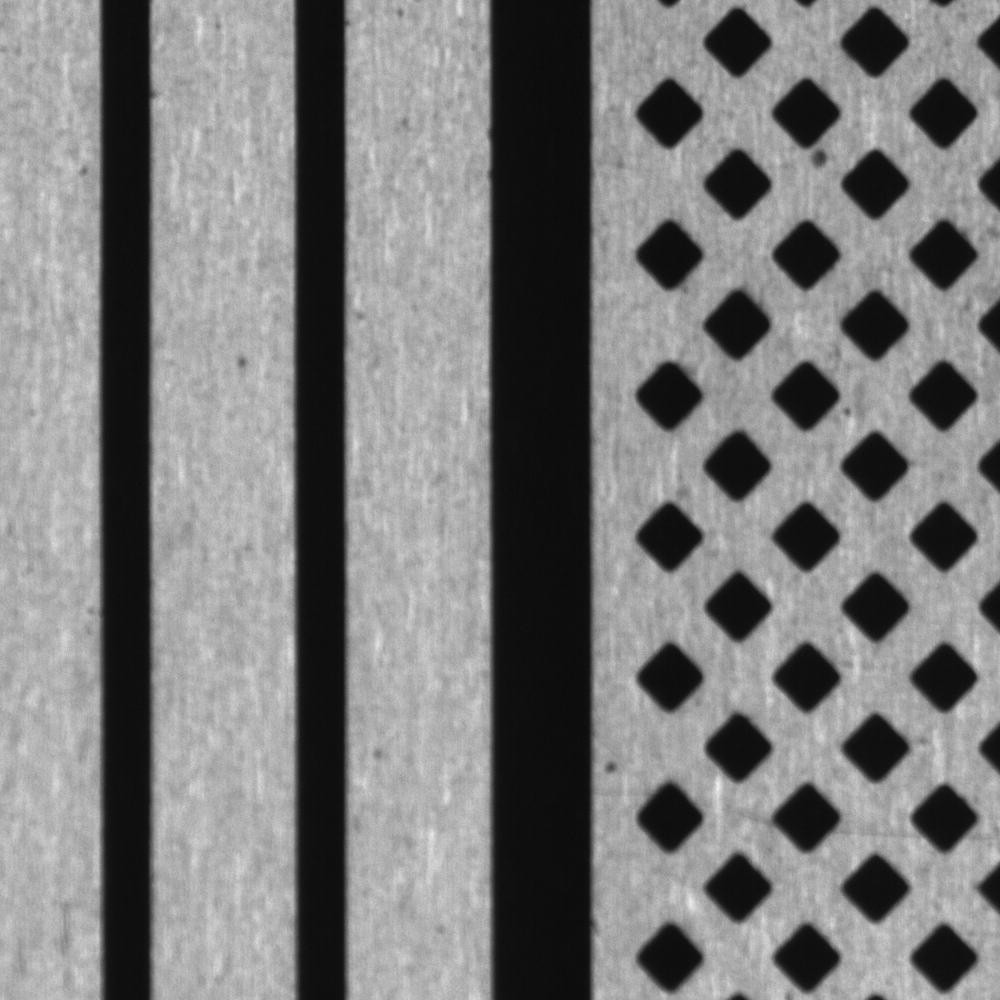Pinhole: (362, 735, 395, 775), (222, 347, 257, 379)
Scar: (827, 815, 927, 847), (711, 796, 773, 833)
